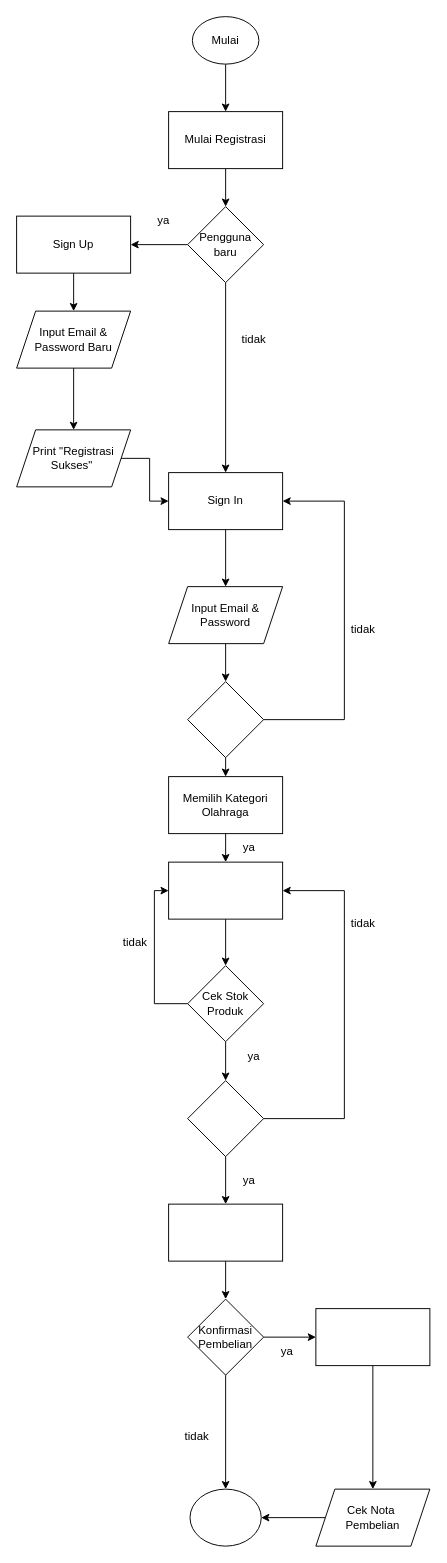
The diagram is 447 pixels wide and 1563 high, and some of its shapes have lost their labels. Each missing label, with the box of its shape:
Cek Jumlah Stok: (187, 1080, 264, 1157)
Email & Password Benar?: (187, 681, 264, 758)
Hitung Total Harga: (168, 1203, 283, 1261)
Kurangi Stok: (315, 1308, 430, 1366)
Memilih Produk Yang Ingin Dibeli: (168, 861, 283, 919)
Selesai: (189, 1488, 261, 1546)
